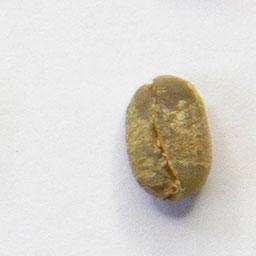peaberry: (120, 70, 217, 205)
